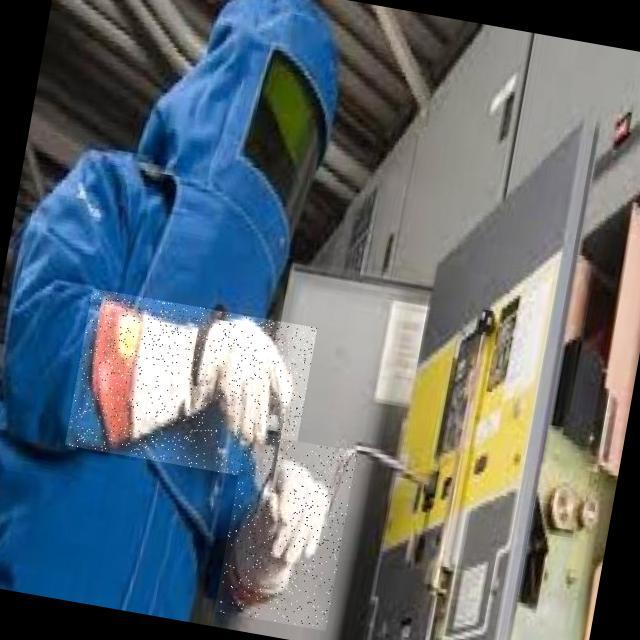Gloves: (65, 288, 317, 484), (214, 432, 357, 631)
Person: (0, 0, 393, 640)
